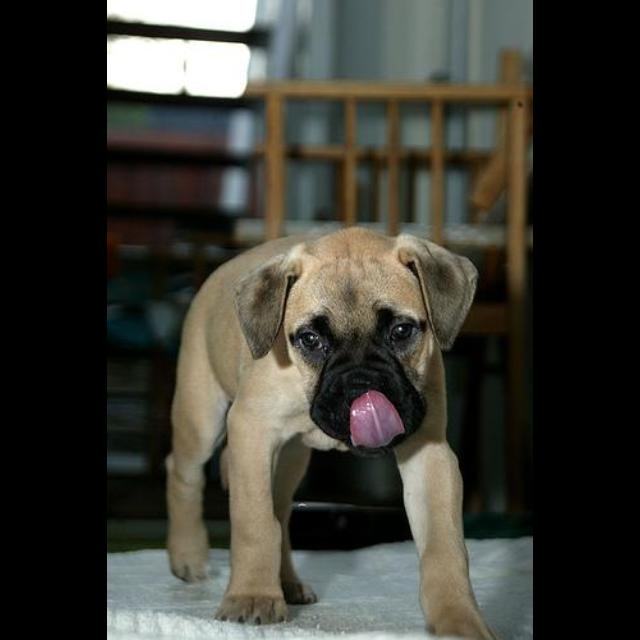bullmastiff: (165, 225, 505, 639)
